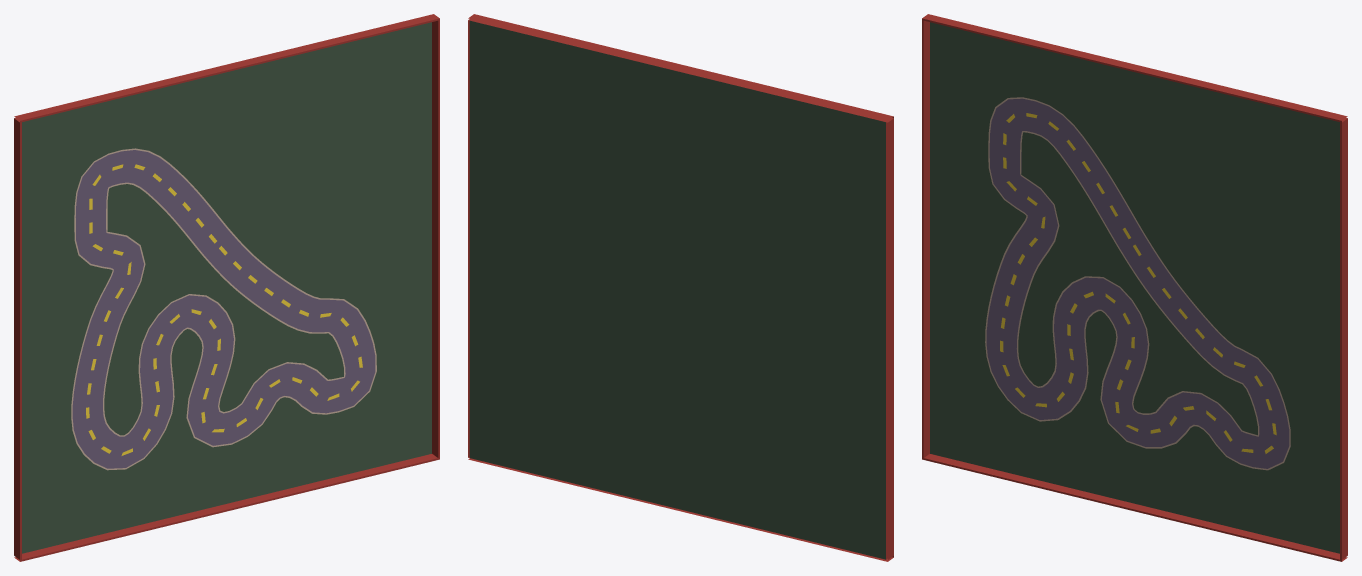
Rendered from track.obj.
3 renders of one model, left to right at view 1: azimuth 30°, elevation 25°; view 2: azimuth 150°, elevation 25°; view 3: azimuth 330°, elevation 25°, orthographic.
Bounding box in the file's own units: 12.05 × 12.1 × 0.3.
